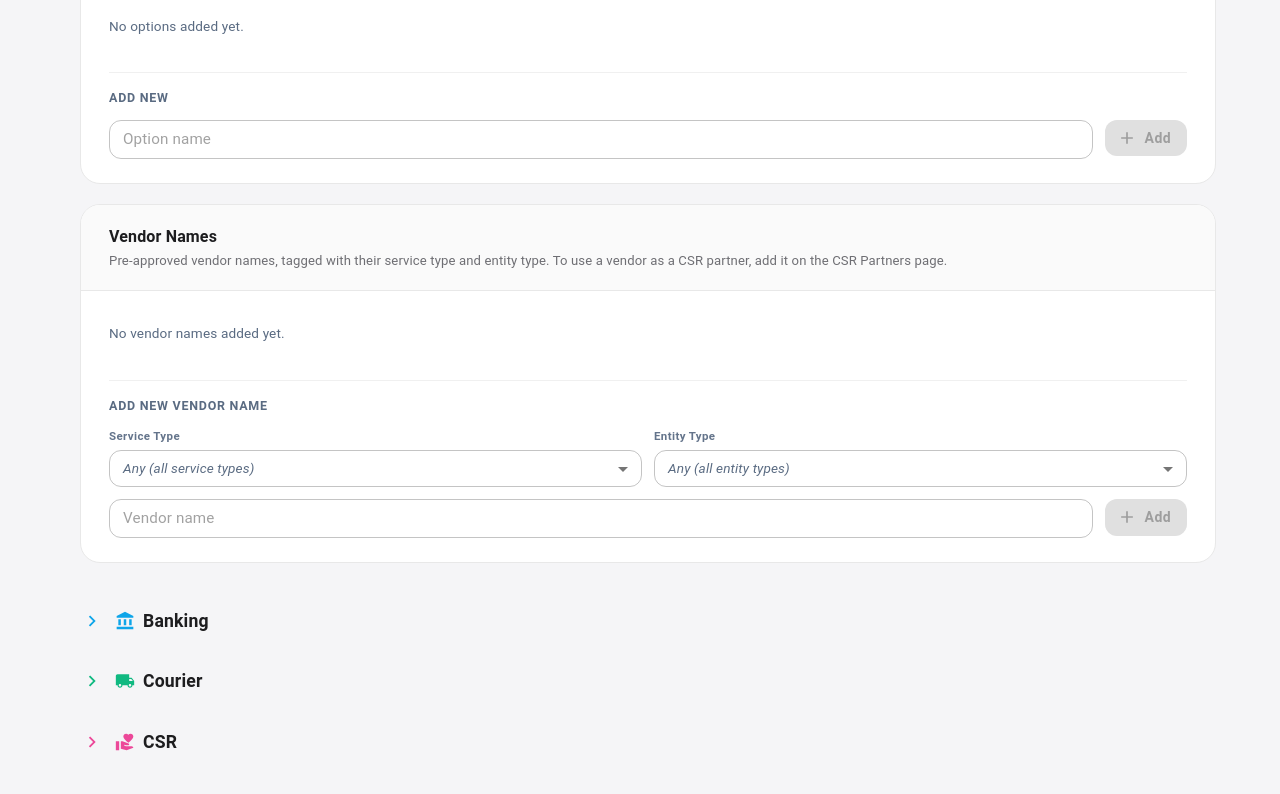
Scenario: editing a bank name sends just the edited row through bulk, as before
(page scrolled)
Click the text "Banking".
click(176, 621)  # box [143, 608, 209, 634]
(page scrolled)
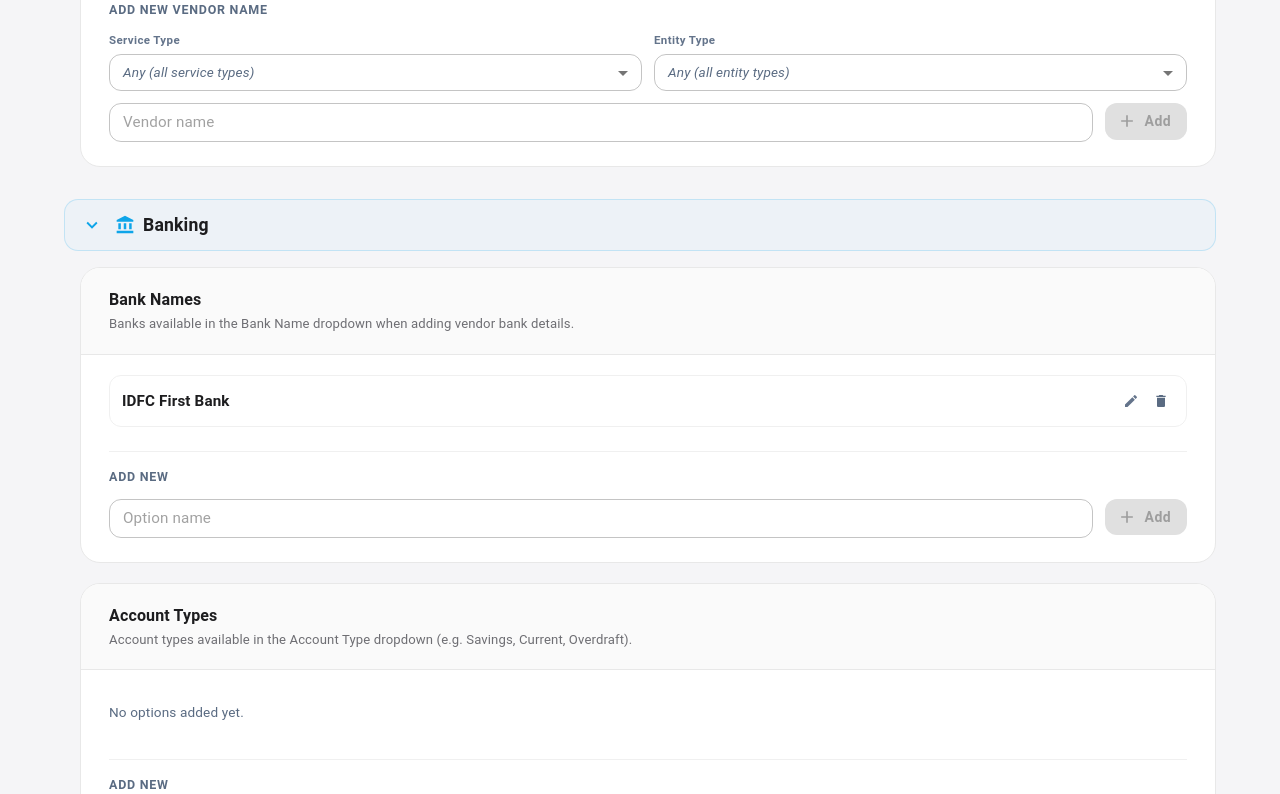
Result: the text "IDFC First Bank" is shown at [122, 390, 230, 412]
Click the button named "Edit".
click(1131, 401)  # box [1118, 388, 1144, 414]
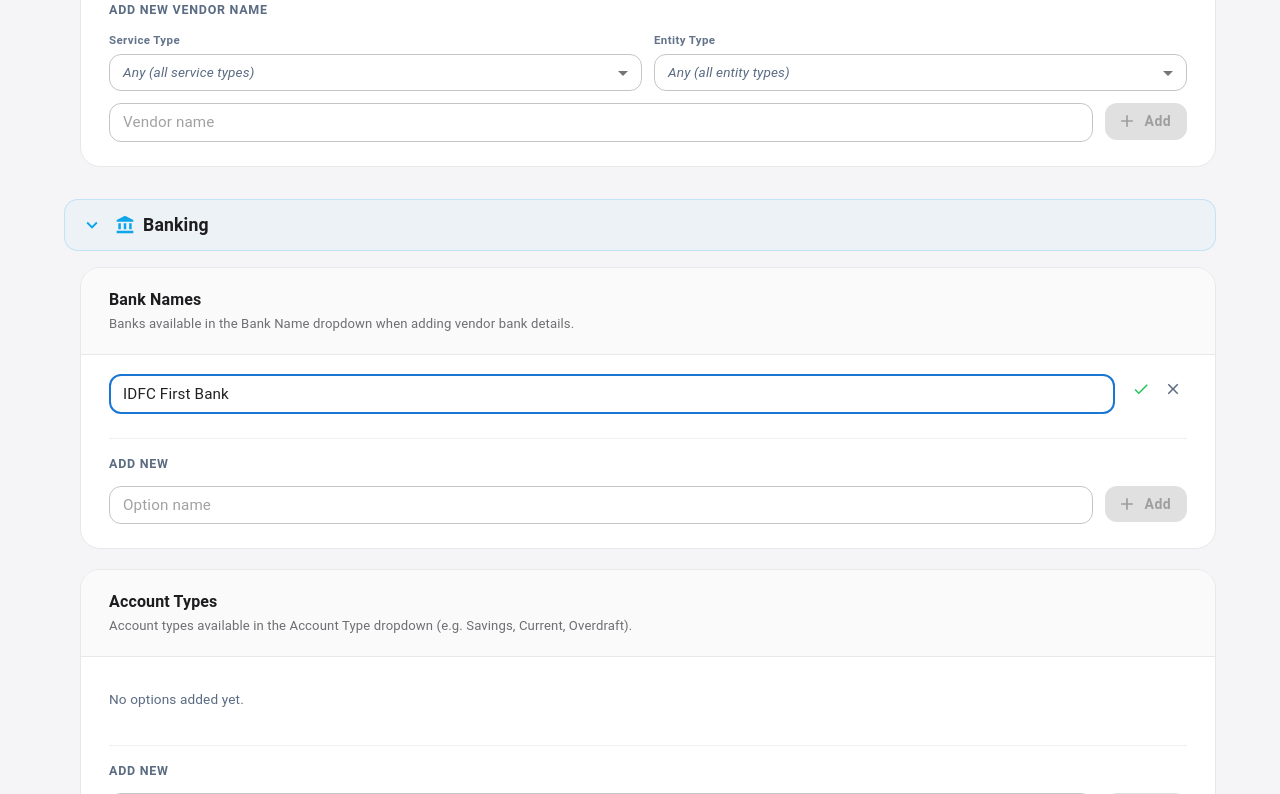
Replace the text in the field showing "IDFC First Bank" with "IDFC Bank" at (612, 394), box [109, 375, 1115, 414]
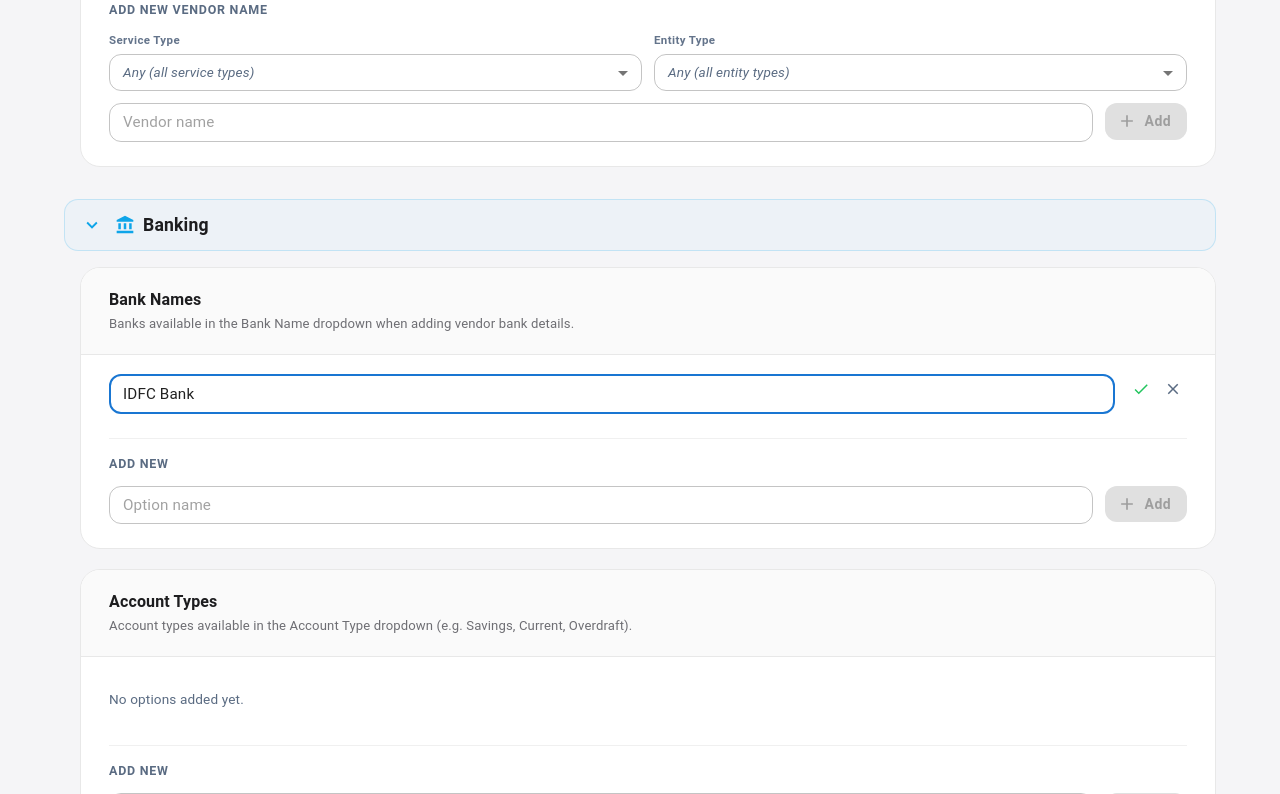
Click the button named "Save".
click(1141, 389)  # box [1127, 375, 1155, 403]
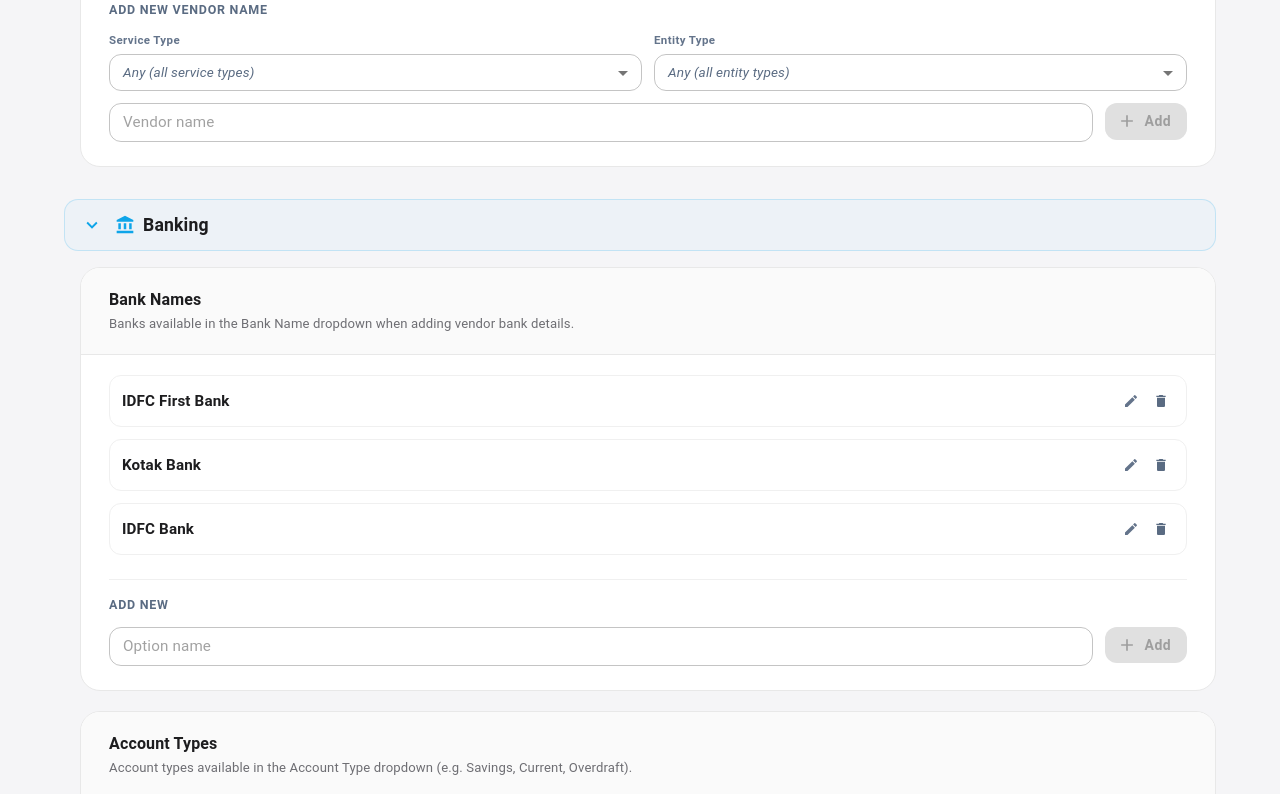
Result: the text "IDFC Bank" is shown at [122, 390, 230, 412]
